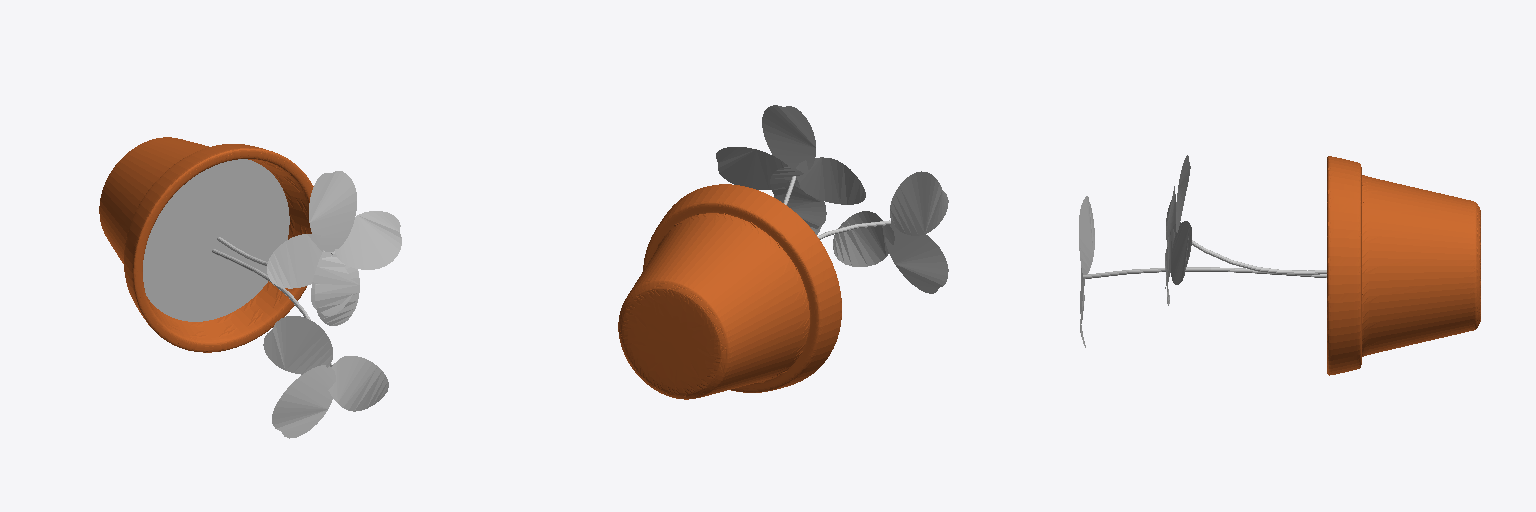
The model's file is flower.obj.
3 views of the same model, side by side, from view 1: azimuth 30°, elevation 25°; view 2: azimuth 150°, elevation 25°; view 3: azimuth 270°, elevation 25° (orthographic).
Parts seen in each view (by area): view 1: flower_Flower_pot.001; view 2: flower_Flower_pot.001; view 3: flower_Flower_pot.001.
Boxes of the visible parts, x1=… form: flower_Flower_pot.001: x1=99, y1=137, x2=401, y2=438; flower_Flower_pot.001: x1=618, y1=105, x2=948, y2=399; flower_Flower_pot.001: x1=1079, y1=155, x2=1480, y2=375.
Bounding box in the file's own units: 41.06 × 44.22 × 72.68.